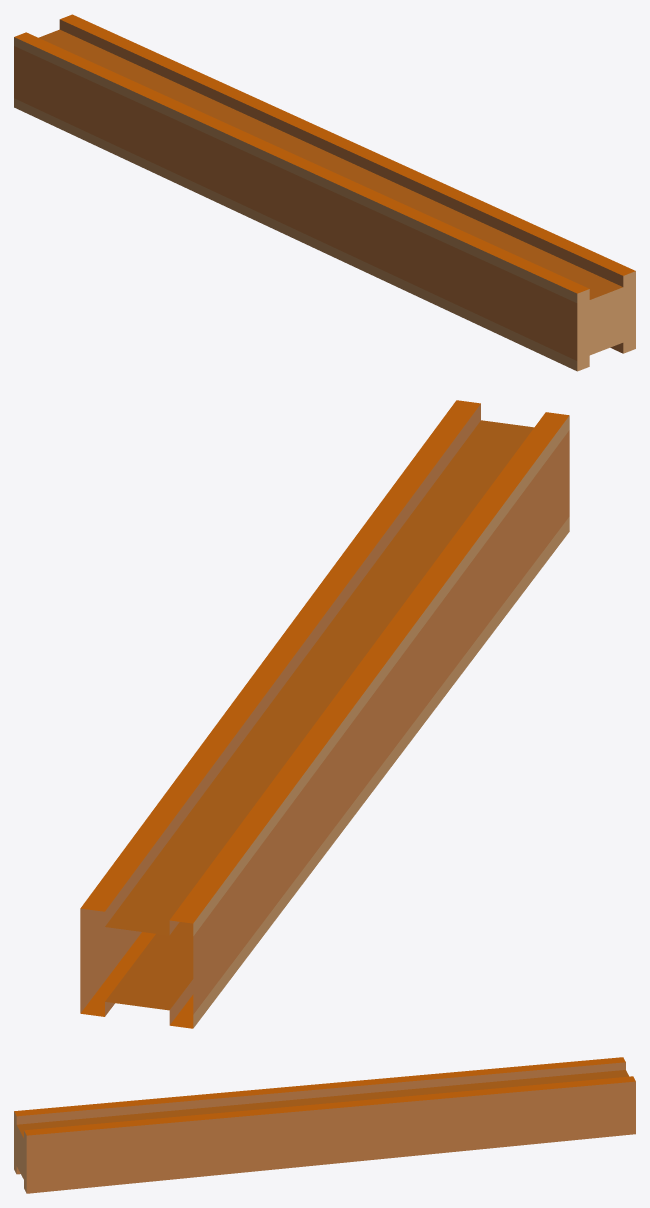
File: TrackPostBeam.fbx
3 renders of one model, top to bottom at view 1: azimuth 30°, elevation 25°; view 2: azimuth 150°, elevation 25°; view 3: azimuth 270°, elevation 25°, orthographic. The views are drawn at different scales.
Visible parts, largest first — view 1: TrackPostBeam; view 2: TrackPostBeam; view 3: TrackPostBeam.
Boxes of the visible parts, left/top/right/bottom form: TrackPostBeam: left=14, top=14, right=635, bottom=371; TrackPostBeam: left=80, top=400, right=569, bottom=1028; TrackPostBeam: left=14, top=1057, right=635, bottom=1193.
Size of the model in its own units: 105 by 35.17 by 341.
